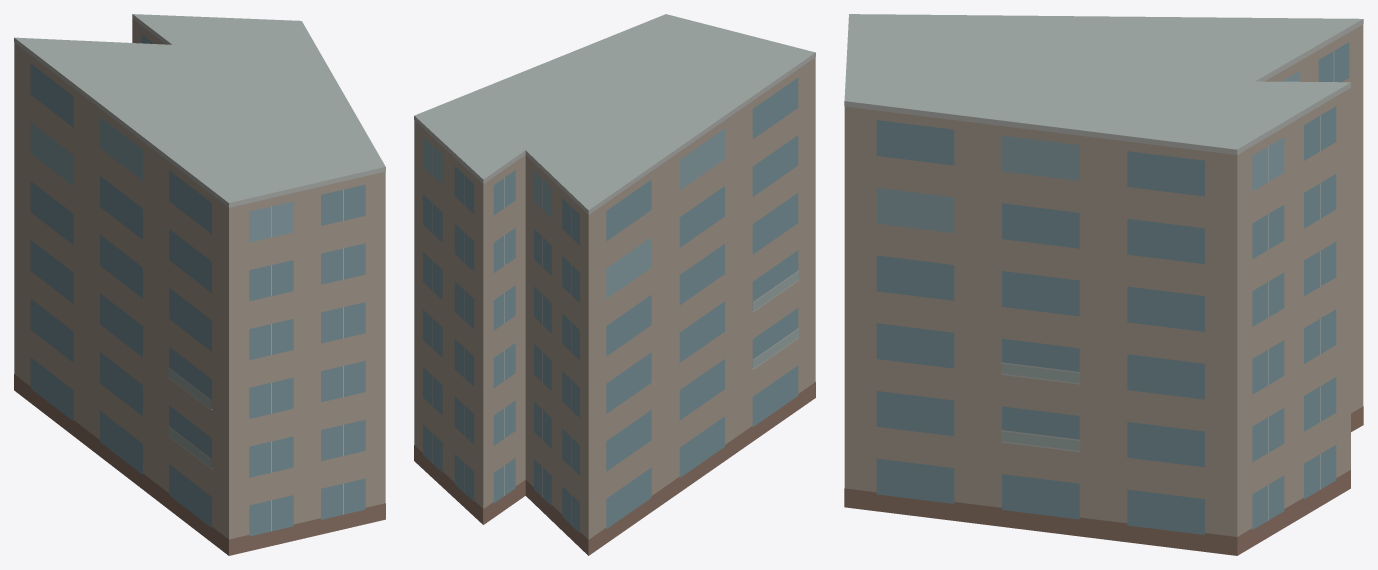
Rendered from survey-upis-32775339.glb.
The picture shows the model from 3 angles, left to right: view 1: azimuth 30°, elevation 25°; view 2: azimuth 150°, elevation 25°; view 3: azimuth 270°, elevation 25°; orthographic projection. The views are drawn at different scales.
Parts seen in each view (by area): view 1: survey-upis-32775339.tmp; view 2: survey-upis-32775339.tmp; view 3: survey-upis-32775339.tmp.
Boxes of the visible parts, x1=… form: survey-upis-32775339.tmp: x1=14, y1=14, x2=385, y2=555; survey-upis-32775339.tmp: x1=414, y1=14, x2=815, y2=555; survey-upis-32775339.tmp: x1=844, y1=14, x2=1363, y2=555.
Bounding box in the file's own units: 13.12 × 18.3 × 21.2.
